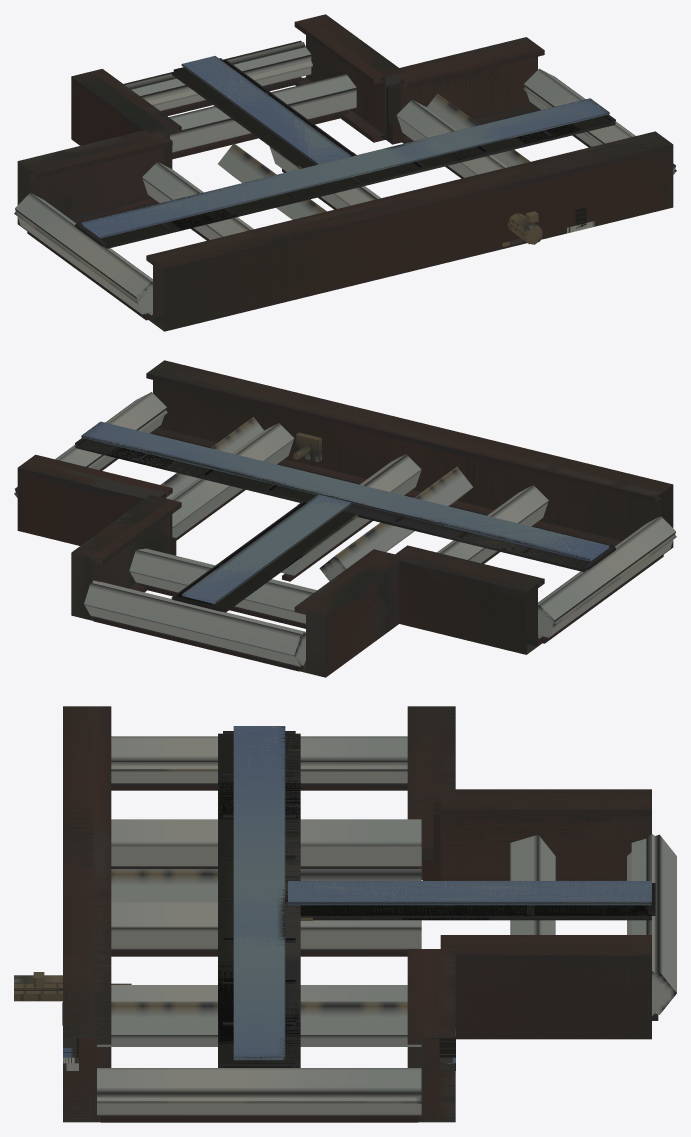
Rendered from place_works_conduit_lane_t.glb.
3 views of the same model, one above another, from view 1: azimuth 30°, elevation 25°; view 2: azimuth 150°, elevation 25°; view 3: azimuth 270°, elevation 25° (orthographic). The views are drawn at different scales.
Parts seen in each view (by area): view 1: LOD0_Merged_Material_Atlas, LOD1_Merged_Material_Atlas, LOD2_Merged_Material_Atlas, LOD0_flow_mesh, LOD1_flow_mesh, LOD2_flow_mesh; view 2: LOD0_Merged_Material_Atlas, LOD1_Merged_Material_Atlas, LOD2_Merged_Material_Atlas, LOD0_flow_mesh, LOD1_flow_mesh, LOD2_flow_mesh; view 3: LOD0_Merged_Material_Atlas, LOD1_Merged_Material_Atlas, LOD2_Merged_Material_Atlas, LOD0_flow_mesh, LOD1_flow_mesh, LOD2_flow_mesh.
Part boxes in pixels (box(x1,y1,x2,y2)): LOD0_Merged_Material_Atlas: box(15, 14, 675, 331); LOD1_Merged_Material_Atlas: box(14, 14, 676, 331); LOD2_Merged_Material_Atlas: box(17, 15, 673, 331); LOD0_flow_mesh: box(75, 58, 615, 248); LOD1_flow_mesh: box(78, 59, 615, 248); LOD2_flow_mesh: box(76, 117, 614, 248); LOD0_Merged_Material_Atlas: box(15, 360, 675, 676); LOD1_Merged_Material_Atlas: box(14, 360, 676, 676); LOD2_Merged_Material_Atlas: box(17, 361, 672, 677); LOD0_flow_mesh: box(75, 438, 615, 612); LOD1_flow_mesh: box(75, 440, 615, 612); LOD2_flow_mesh: box(77, 439, 613, 570); LOD0_Merged_Material_Atlas: box(14, 706, 676, 1122); LOD1_Merged_Material_Atlas: box(14, 706, 674, 1122); LOD2_Merged_Material_Atlas: box(63, 707, 651, 1121); LOD0_flow_mesh: box(218, 731, 655, 1067); LOD1_flow_mesh: box(218, 733, 651, 1067); LOD2_flow_mesh: box(218, 734, 300, 1065).
Bounding box in the file's own units: 2.34 × 0.26 × 1.86.
1 material, 1 textured.
